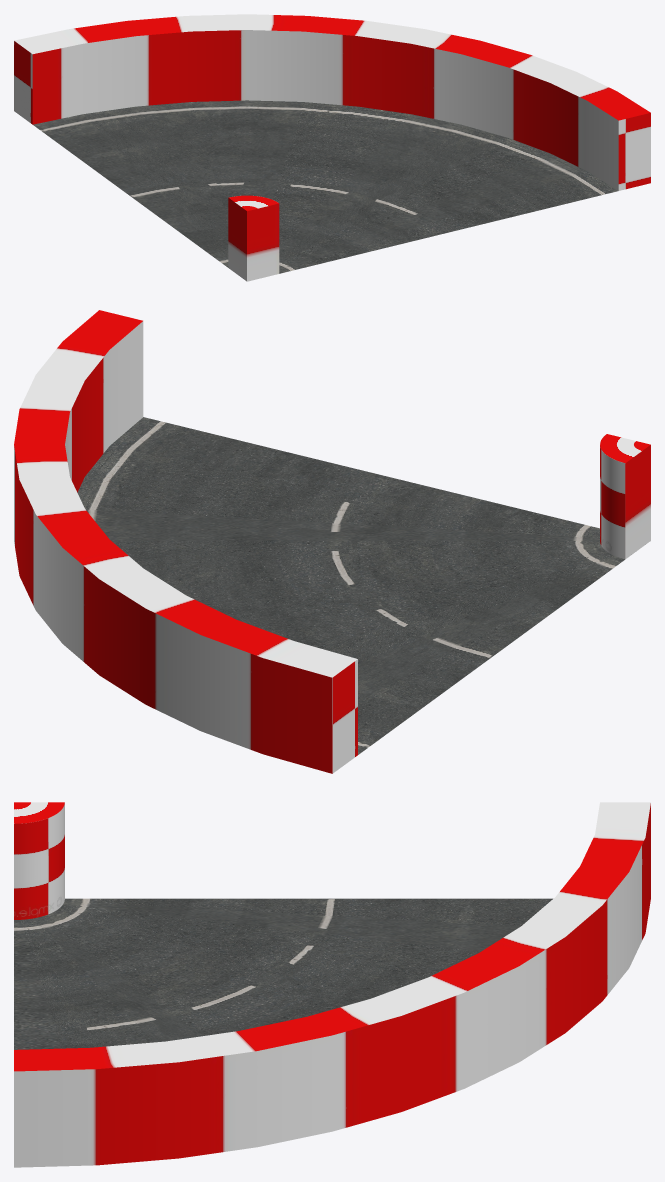
The model's file is left90.fbx.
The picture shows the model from 3 angles, top to bottom: view 1: azimuth 30°, elevation 25°; view 2: azimuth 150°, elevation 25°; view 3: azimuth 270°, elevation 25°; orthographic projection. The views are drawn at different scales.
Visible parts, largest first — view 1: Plane.037; view 2: Plane.037; view 3: Plane.037.
Boxes of the visible parts, x1,y1,x2,y2 form: Plane.037: [14, 14, 650, 281]; Plane.037: [14, 310, 650, 773]; Plane.037: [14, 802, 650, 1167].
Bounding box in the file's own units: 600 × 100 × 600.
